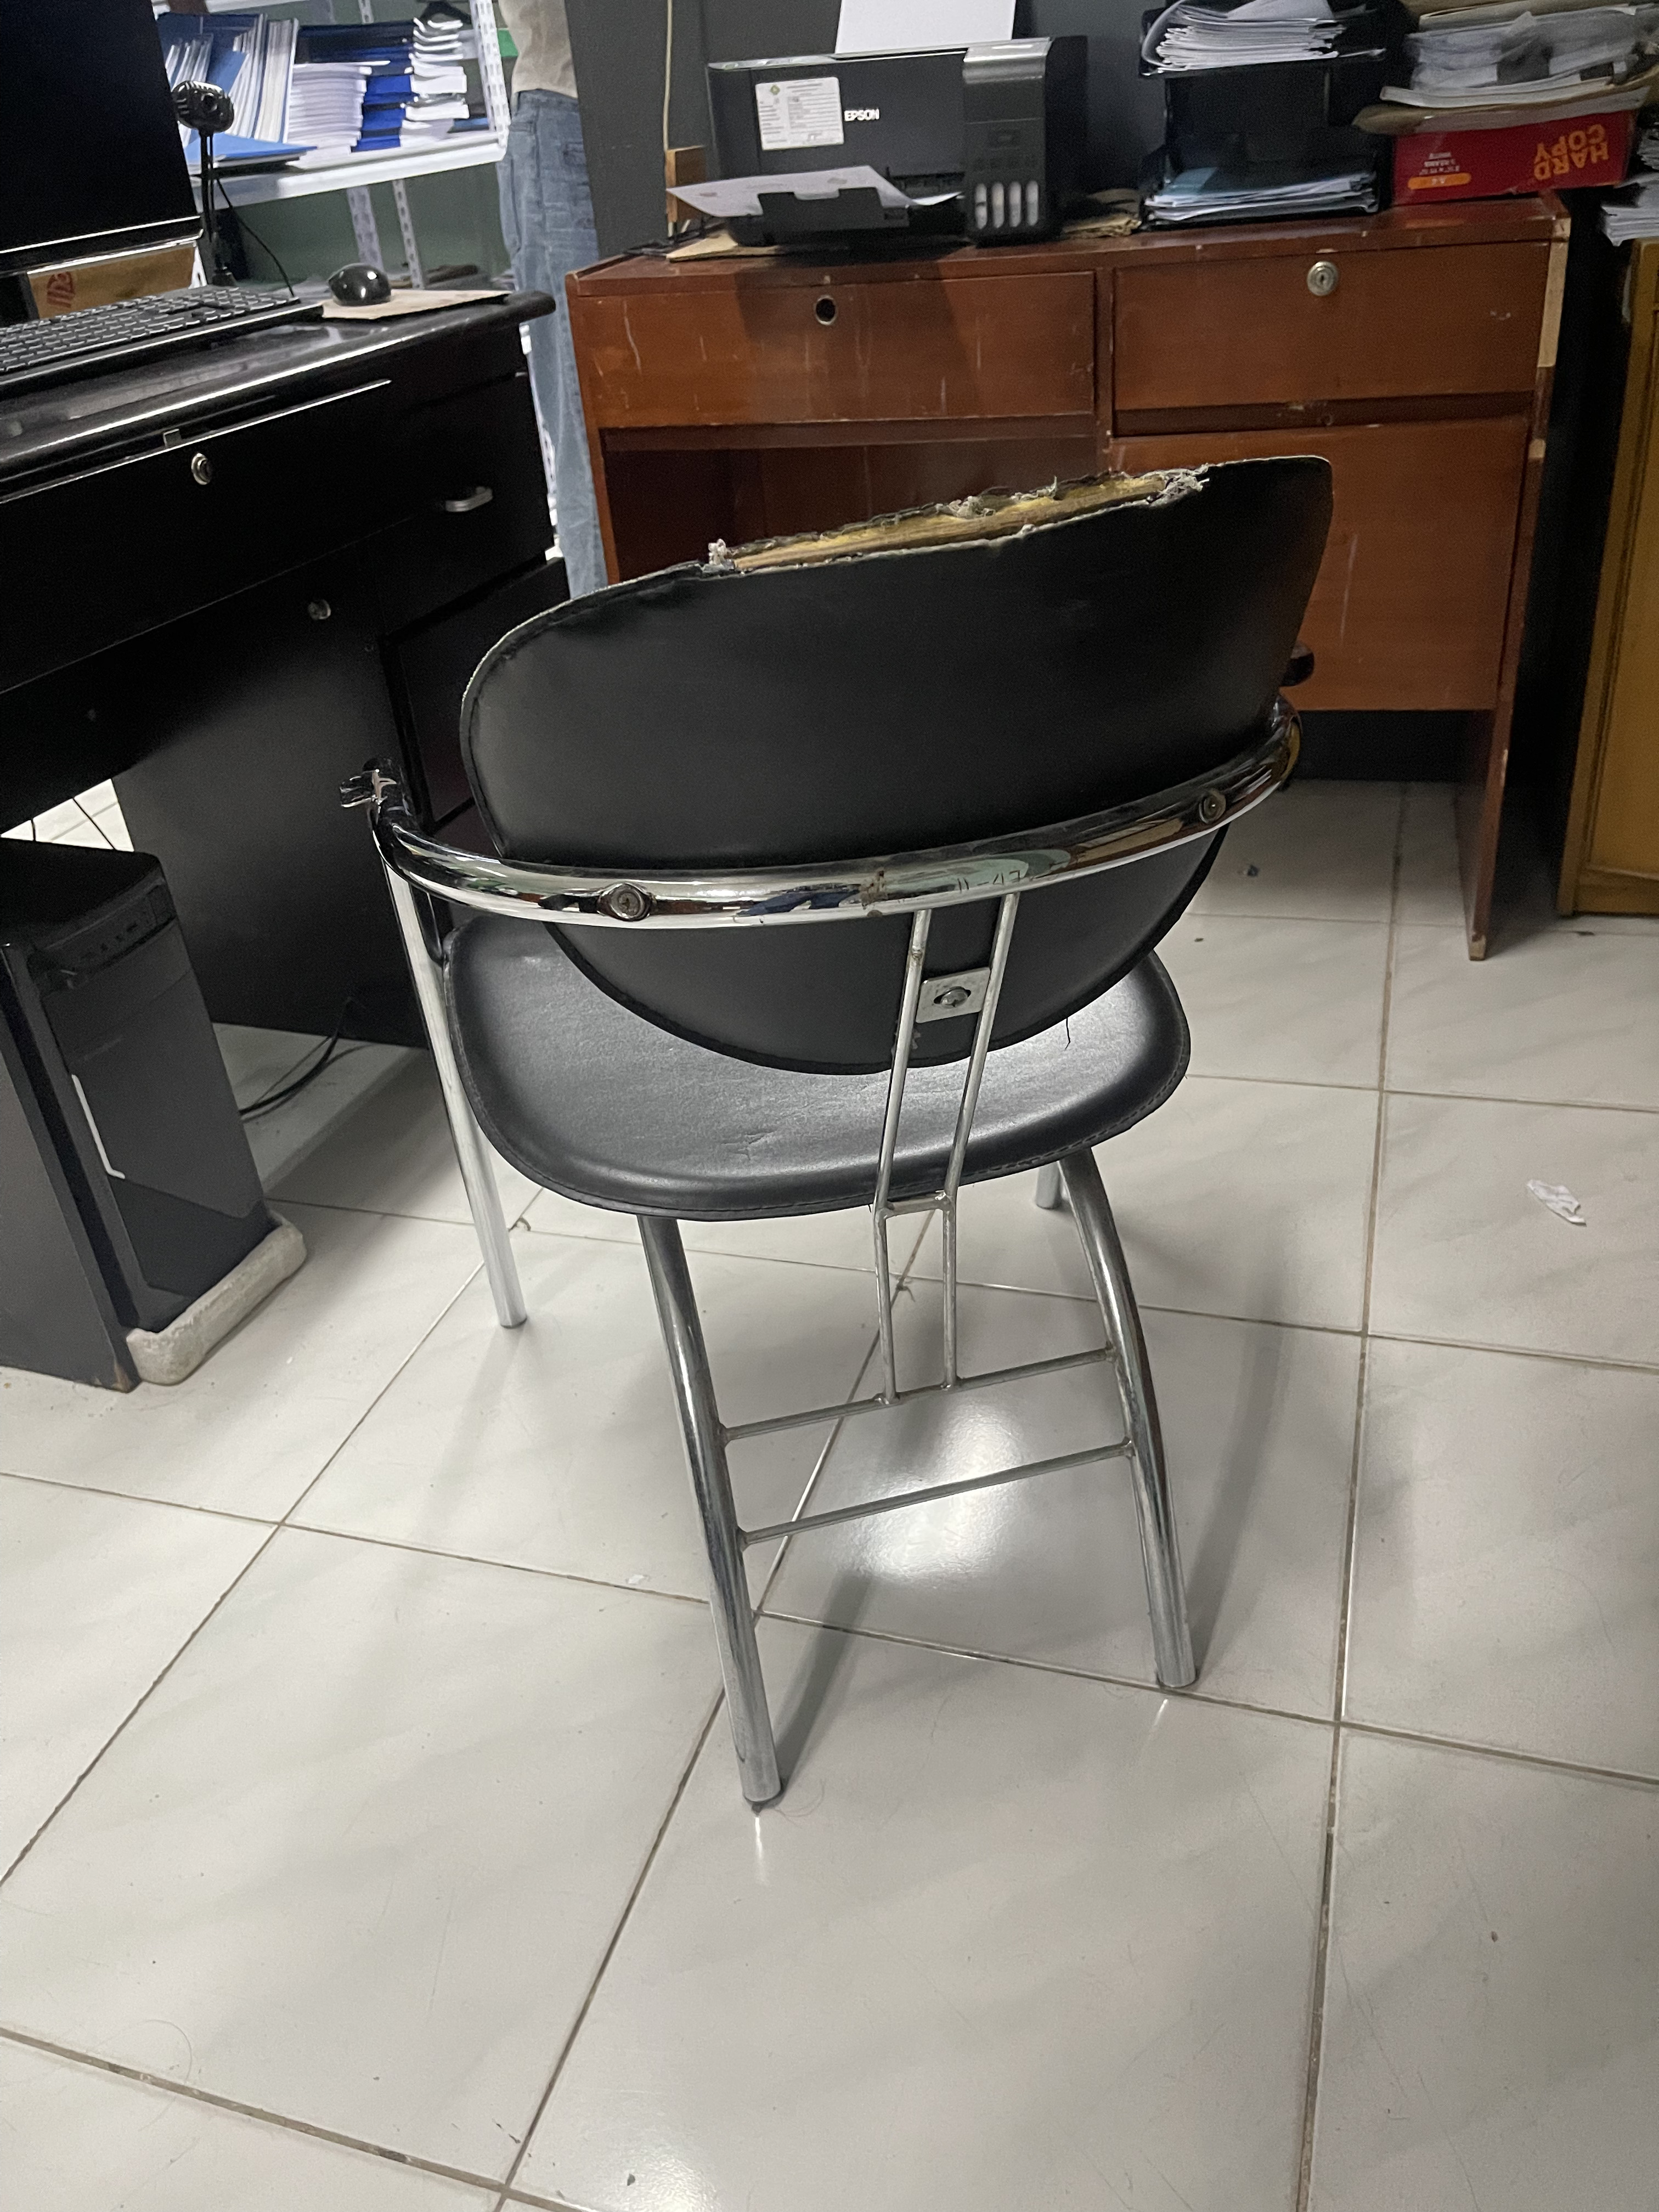chair1: (359, 448, 1342, 1808)
